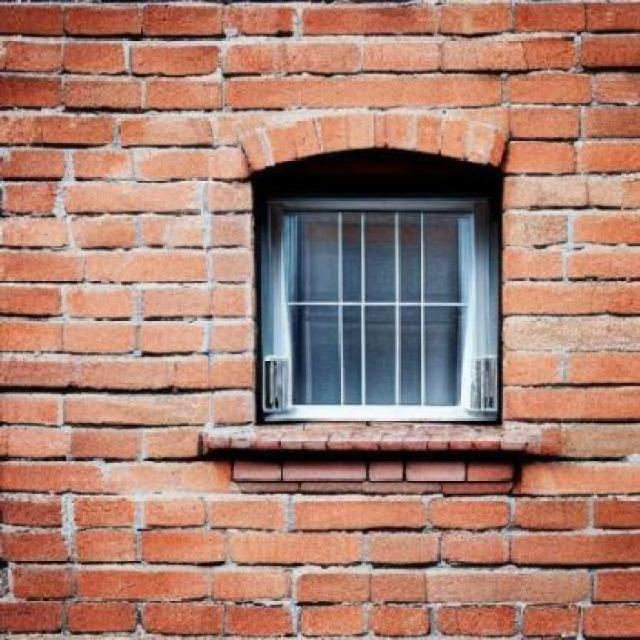window: (255, 170, 500, 422)
